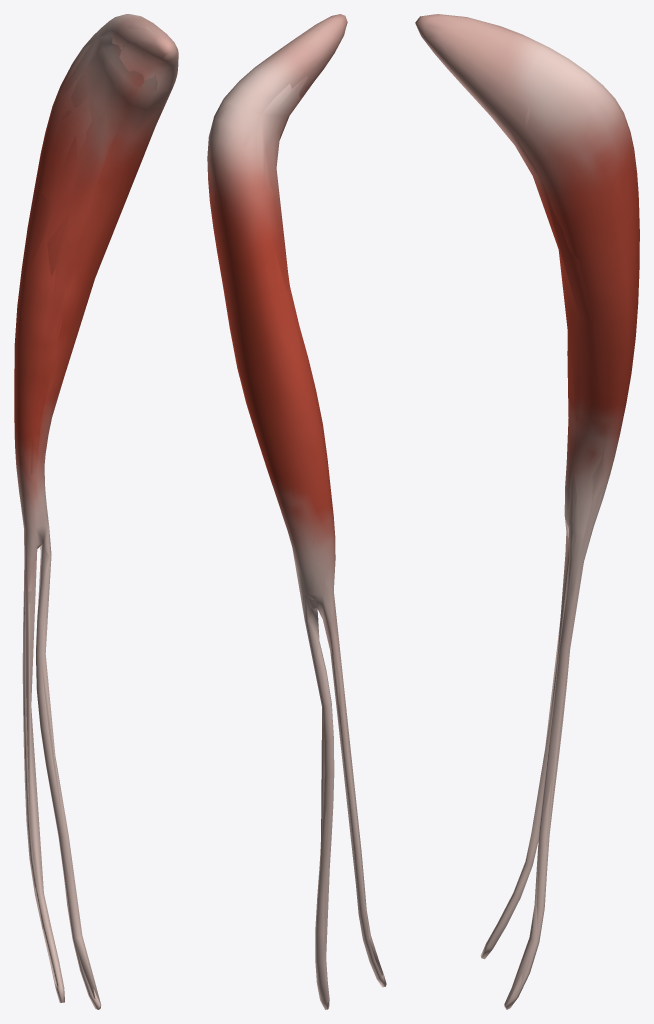
File: R Superficial Digital Flexor.fbx
3 views of the same model, side by side, from view 1: azimuth 30°, elevation 25°; view 2: azimuth 150°, elevation 25°; view 3: azimuth 270°, elevation 25° (orthographic). The views are drawn at different scales.
Parts seen in each view (by area): view 1: R Superficial Digital Flexor low, R Superficial Digital Flexor; view 2: R Superficial Digital Flexor, R Superficial Digital Flexor low; view 3: R Superficial Digital Flexor, R Superficial Digital Flexor low.
Boxes of the visible parts, x1,y1,x2,y2 form: R Superficial Digital Flexor low: (24, 17, 176, 1003); R Superficial Digital Flexor: (14, 14, 178, 1009); R Superficial Digital Flexor: (207, 14, 386, 1009); R Superficial Digital Flexor low: (207, 19, 382, 975); R Superficial Digital Flexor: (415, 14, 639, 1009); R Superficial Digital Flexor low: (439, 14, 639, 1004).
Size of the model in its own units: 2.89 by 19.61 by 3.97.
